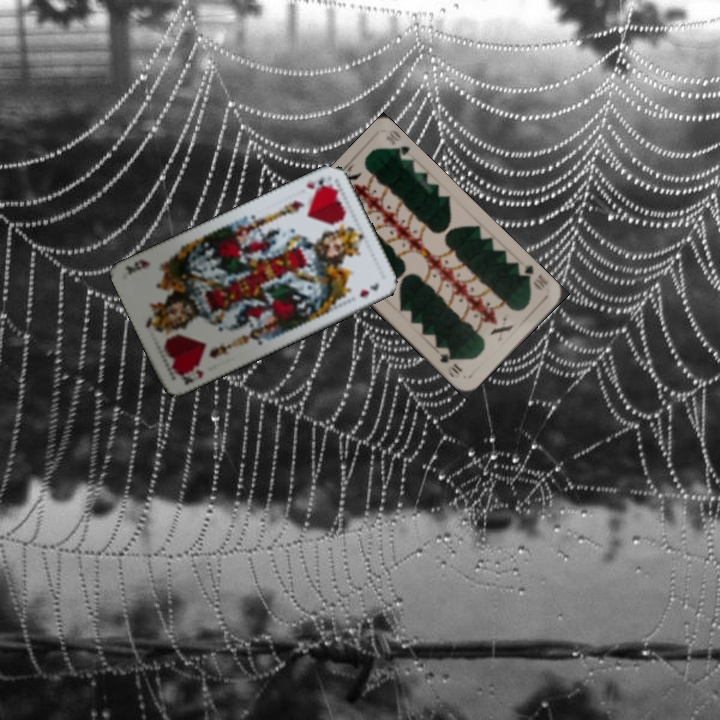G10: (514, 261, 551, 293)
HK: (174, 361, 207, 388), (302, 175, 335, 195)
